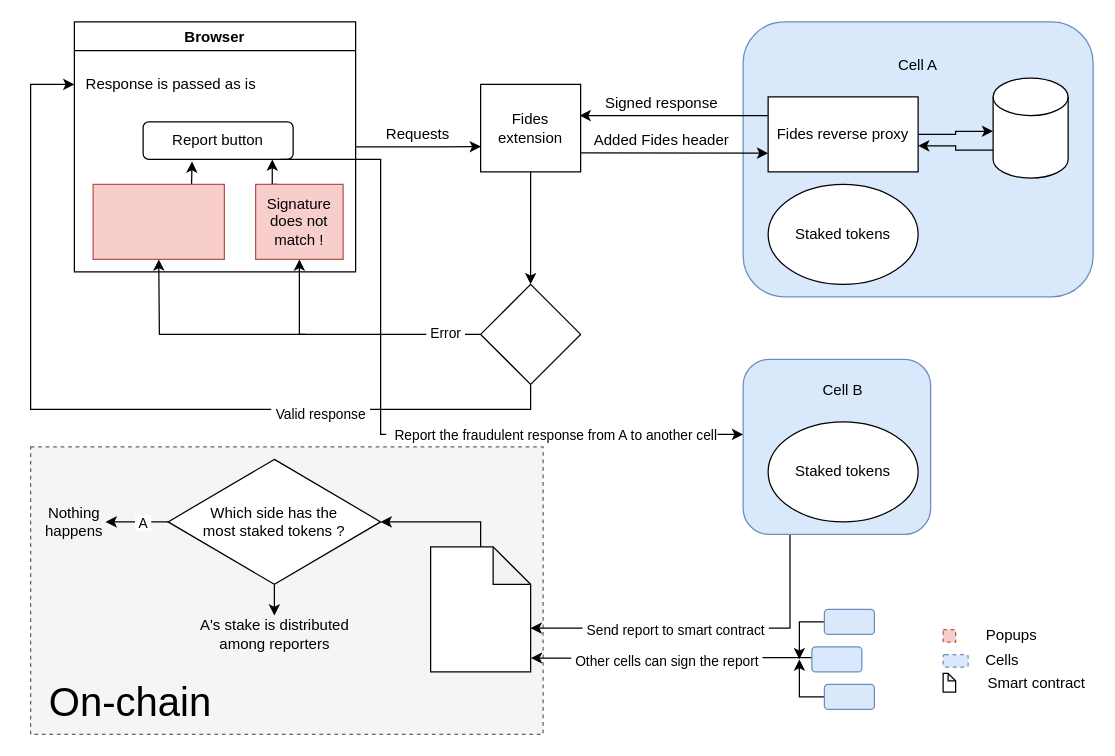
This 1115x756 diagram has some shape labels left out. Each missing label, with the centre of its shape:
"Other cells have different responses !" goes at point (158, 221).
"Report creation" goes at point (480, 609).
"Response check" goes at point (530, 333).
"Traditional server" goes at point (1030, 127).
